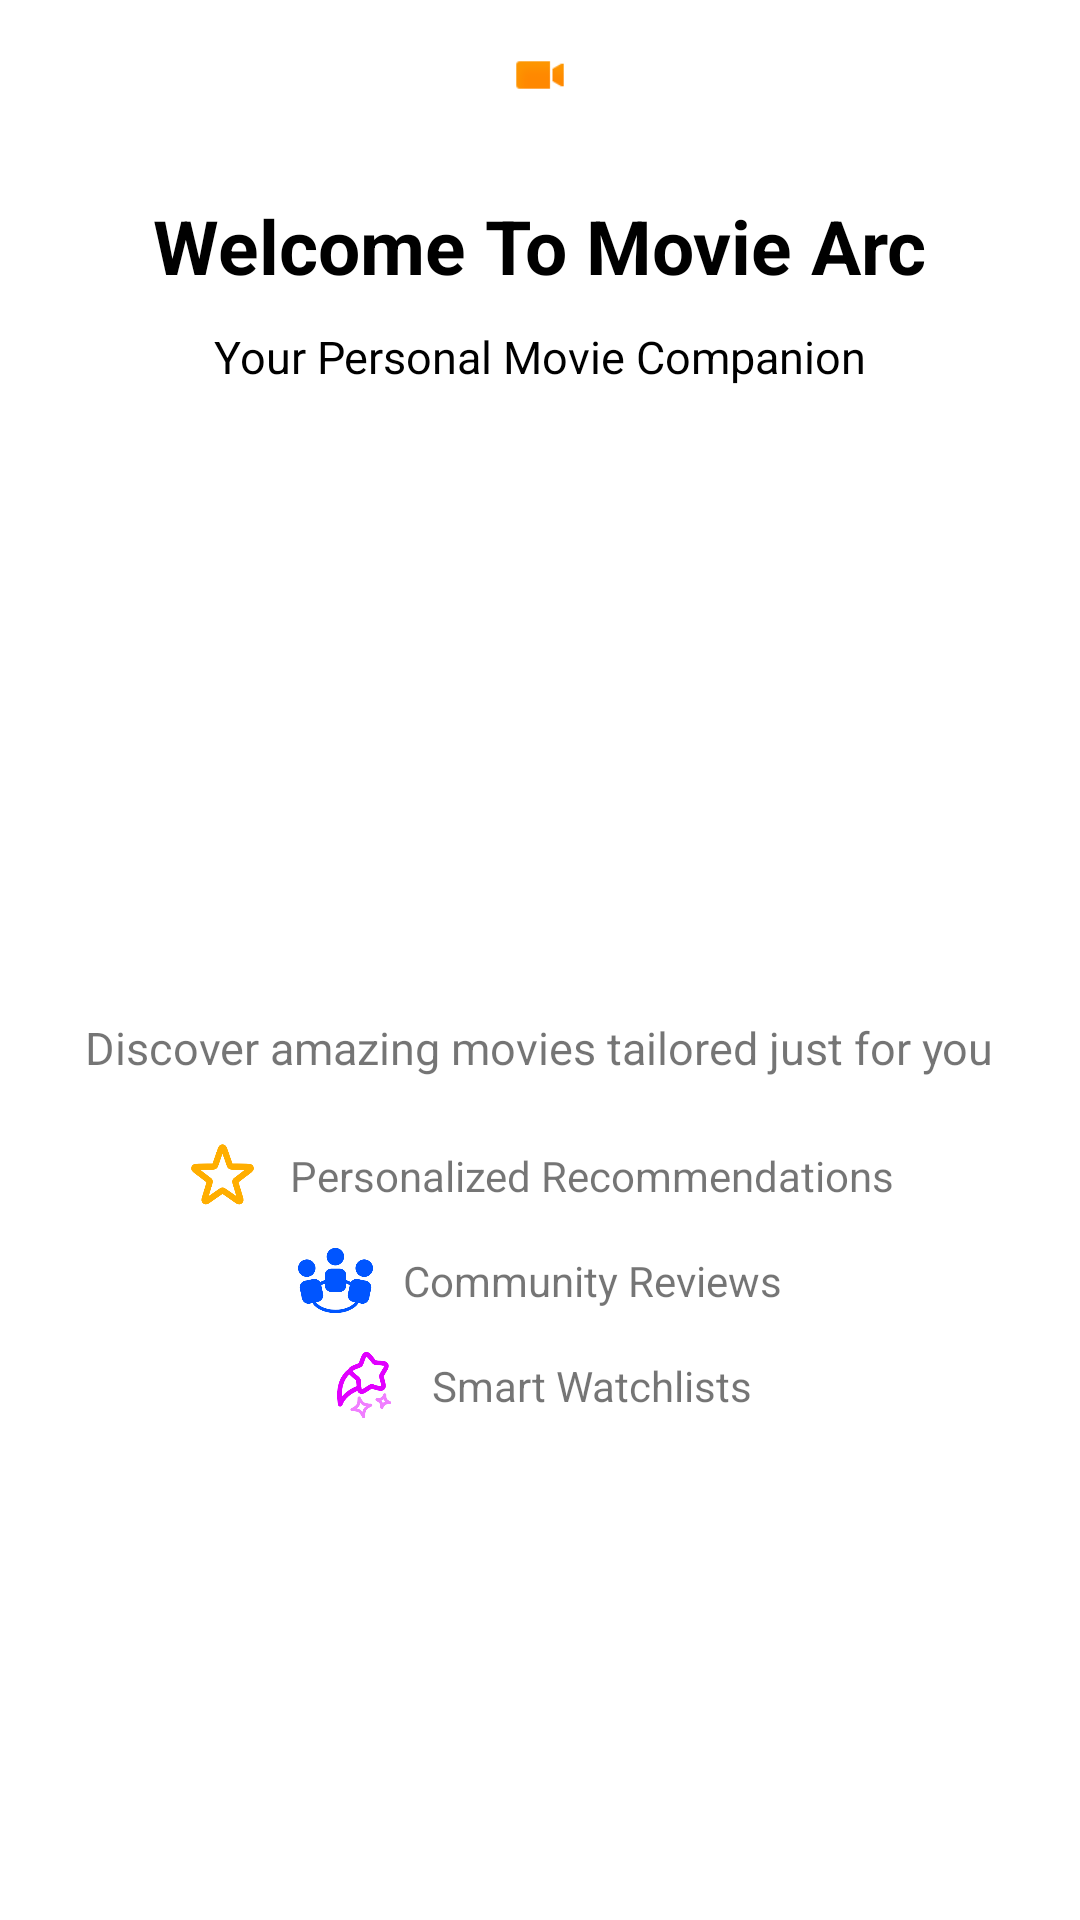

Point at icon controls on the screen. Image size 1080px×1920px, points as point (x, y).
presence video away: point (540, 75)
star: point (222, 1174)
